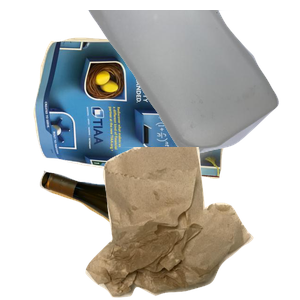glass: (37, 168, 242, 300)
paper: (31, 34, 252, 205)
plastic: (84, 10, 300, 157)
trash: (83, 147, 300, 300)
